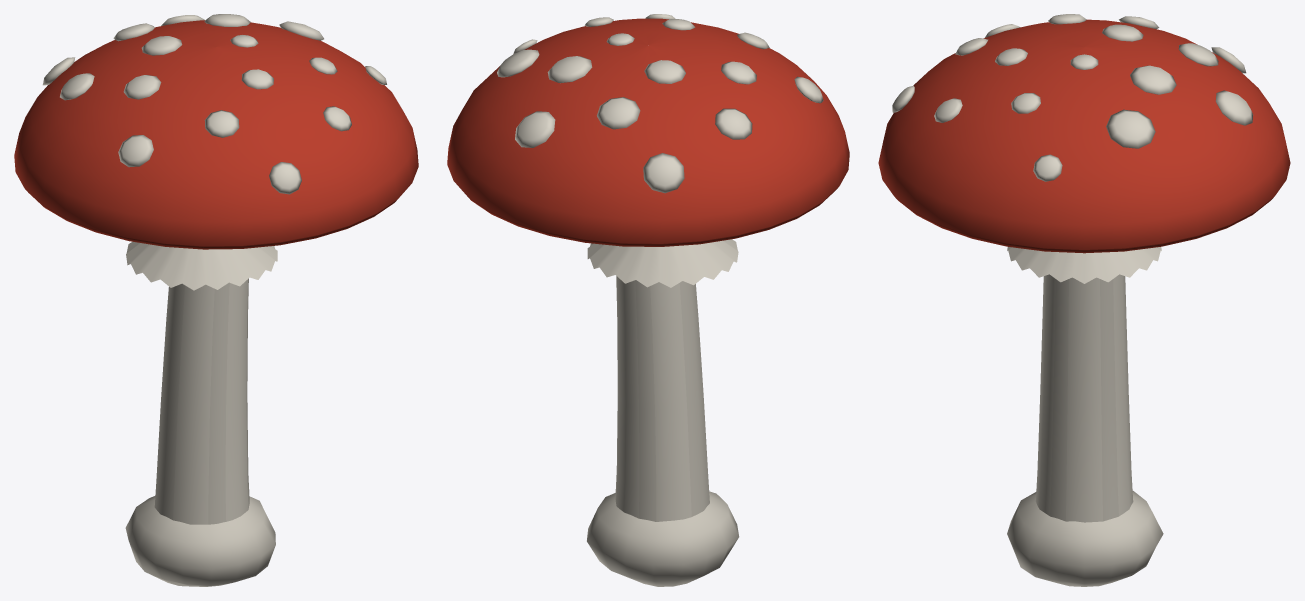
Rendered from great_red.glb.
3 renders of one model, left to right at view 1: azimuth 30°, elevation 25°; view 2: azimuth 150°, elevation 25°; view 3: azimuth 270°, elevation 25°, orthographic. The views are drawn at different scales.
Parts seen in each view (by area): view 1: body, body_nl; view 2: body, body_nl; view 3: body, body_nl.
Part boxes in pixels (box(x1,y1,x2,y2)): body: box(14, 20, 418, 586); body_nl: box(42, 14, 386, 194); body: box(447, 18, 849, 586); body_nl: box(497, 14, 823, 193); body: box(878, 19, 1290, 586); body_nl: box(892, 14, 1253, 181).
Size of the model in its own units: 4.8 by 6.93 by 4.8.
